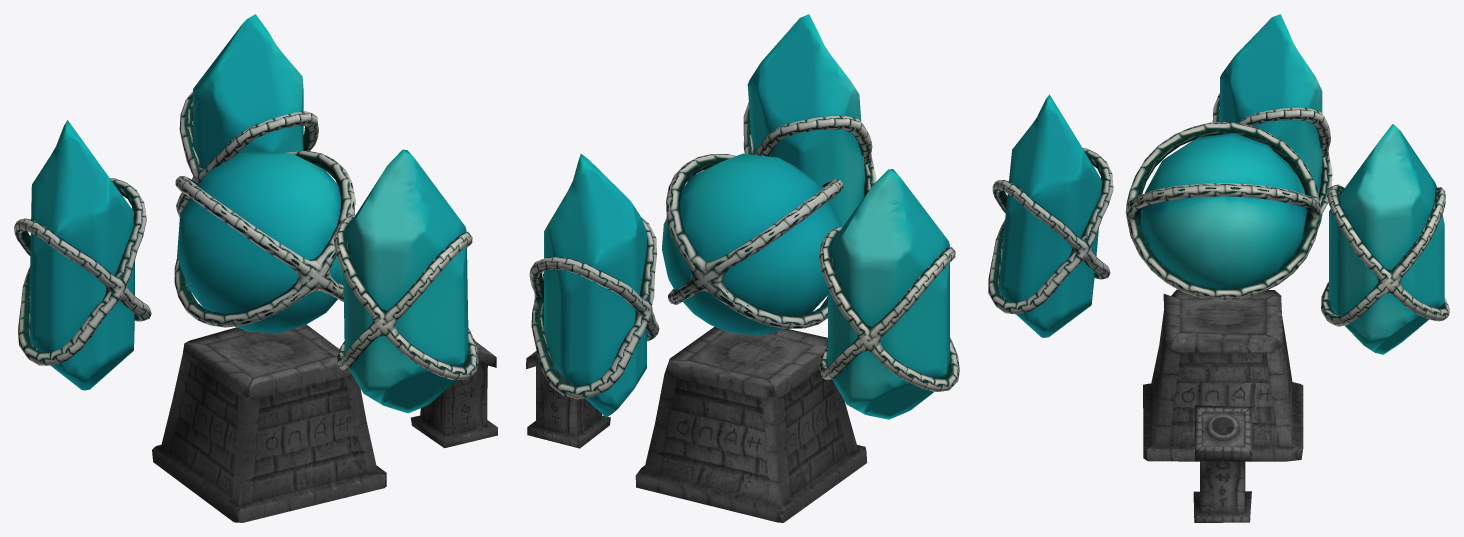
Rendered from devicev04.fbx.
The picture shows the model from 3 angles, left to right: view 1: azimuth 30°, elevation 25°; view 2: azimuth 150°, elevation 25°; view 3: azimuth 270°, elevation 25°; orthographic projection. The views are drawn at different scales.
Parts seen in each view (by area): view 1: deviceA, crystal1, crystal4, crystal3, crystal2, chain3, chain, chain1, deviceB, chain2; view 2: deviceA, crystal3, crystal4, crystal2, crystal1, chain3, chain2, chain, deviceB, chain1; view 3: deviceA, crystal4, crystal2, crystal1, chain3, crystal3, deviceB, chain1, chain2, chain.
Boxes of the visible parts, bbox=[...] form: deviceA: bbox=[152, 324, 386, 522]; crystal1: bbox=[343, 149, 468, 413]; crystal4: bbox=[177, 151, 343, 332]; crystal3: bbox=[30, 120, 134, 390]; crystal2: bbox=[193, 14, 303, 168]; chain3: bbox=[174, 150, 355, 327]; chain: bbox=[14, 178, 151, 365]; chain1: bbox=[333, 215, 478, 379]; deviceB: bbox=[411, 339, 497, 448]; chain2: bbox=[176, 91, 318, 217]; deviceA: bbox=[635, 326, 867, 522]; crystal3: bbox=[828, 169, 949, 419]; crystal4: bbox=[662, 153, 841, 334]; crystal2: bbox=[544, 154, 646, 417]; crystal1: bbox=[747, 14, 865, 227]; chain3: bbox=[666, 154, 843, 328]; chain2: bbox=[529, 217, 659, 399]; chain: bbox=[819, 227, 959, 391]; deviceB: bbox=[526, 351, 610, 448]; chain1: bbox=[743, 102, 876, 196]; deviceA: bbox=[1143, 289, 1303, 461]; crystal4: bbox=[1141, 133, 1306, 288]; crystal2: bbox=[1329, 124, 1444, 354]; crystal1: bbox=[999, 94, 1102, 337]; chain3: bbox=[1125, 122, 1320, 300]; crystal3: bbox=[1220, 14, 1322, 227]; deviceB: bbox=[1193, 405, 1251, 522]; chain1: bbox=[988, 148, 1113, 314]; chain2: bbox=[1321, 184, 1449, 326]; chain: bbox=[1212, 93, 1332, 216].
Bounding box in the file's own units: 290 × 246 × 293.
Materials: 2 (2 with a texture image).
